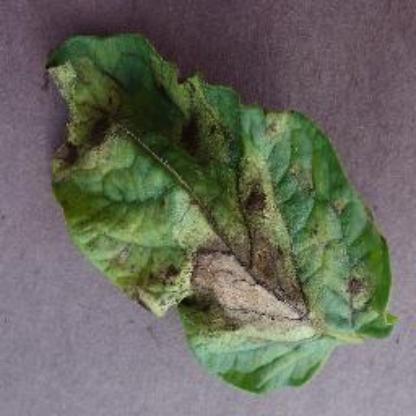Late-Blight: (34, 28, 406, 394)
